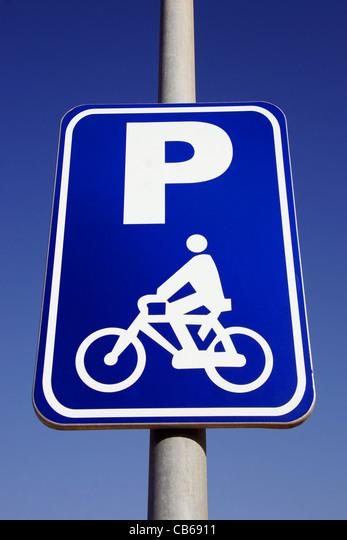Parking Lot Cycle: (37, 94, 313, 428)
